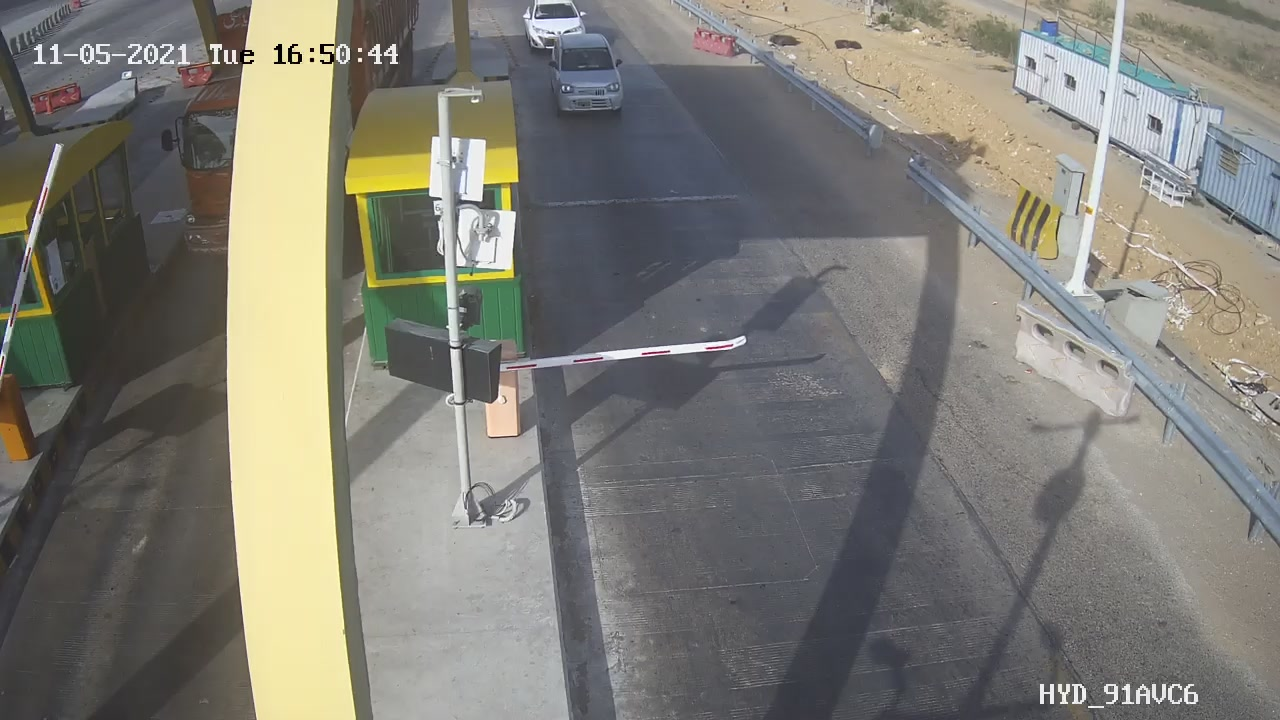F1: (534, 26, 642, 126)
